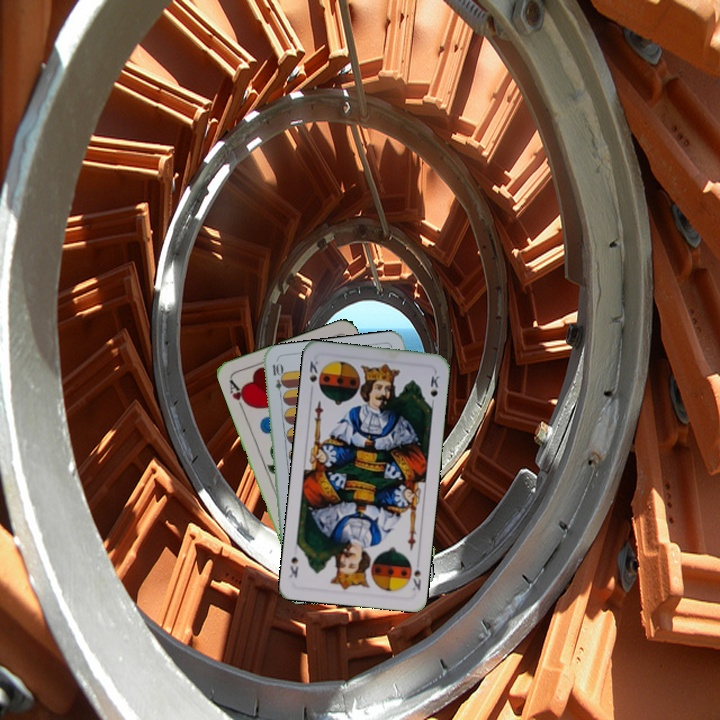E10: (268, 359, 286, 400)
HA: (225, 375, 252, 414)
SK: (404, 557, 423, 593), (305, 357, 321, 385)
